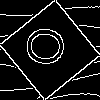O: (25, 25, 75, 69)
